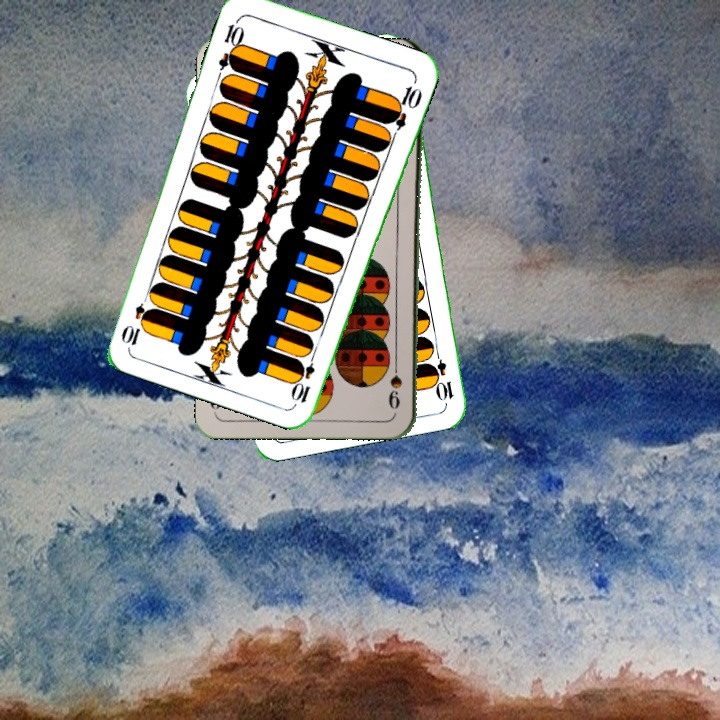E10: (213, 14, 247, 73), (290, 347, 319, 406), (429, 344, 456, 403)
S9: (388, 354, 404, 412)
